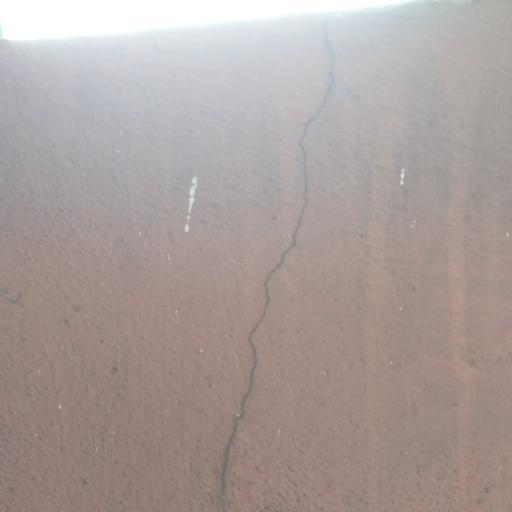minor_crack: (196, 0, 361, 512)
